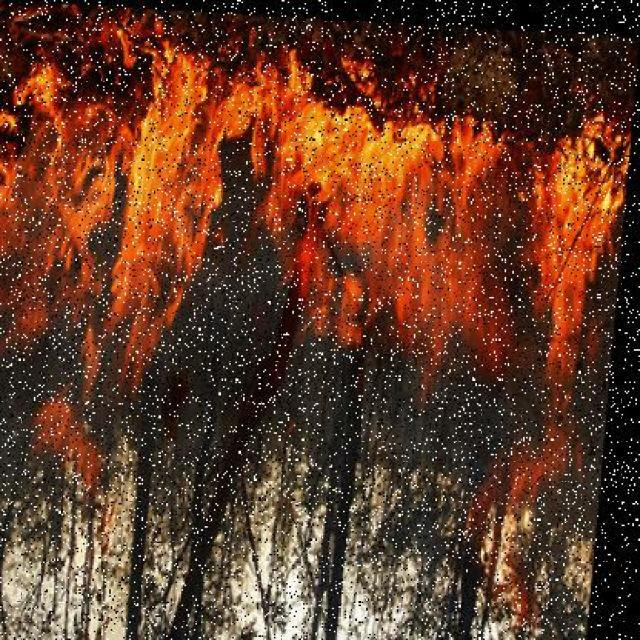Fire: (364, 82, 592, 330), (157, 48, 363, 196), (0, 137, 148, 320)
